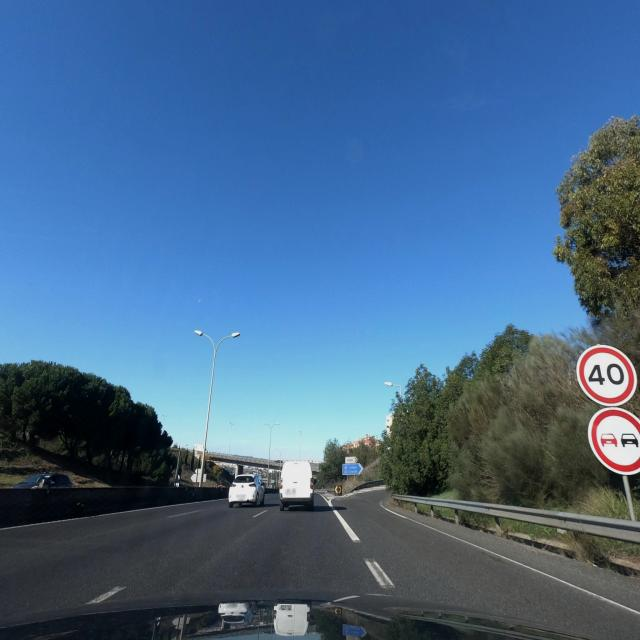car: (279, 459, 315, 511), (228, 473, 266, 508), (12, 471, 74, 489)
